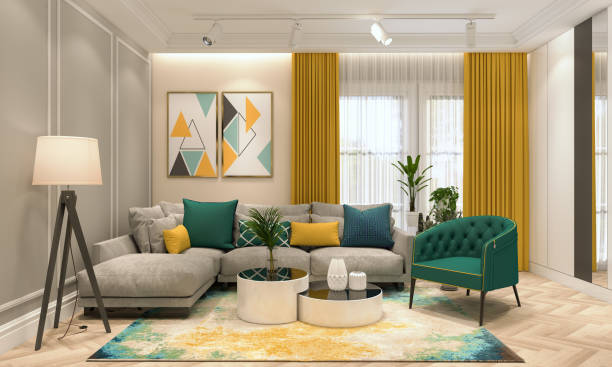chair: (408, 212, 522, 327)
floor lamp: (30, 133, 111, 351)
large plant: (391, 152, 432, 228)
small plant: (242, 204, 290, 278)
sofa: (75, 197, 416, 319)
table: (298, 280, 385, 329), (236, 268, 308, 326)
wall art: (164, 88, 219, 180), (221, 89, 275, 178)
